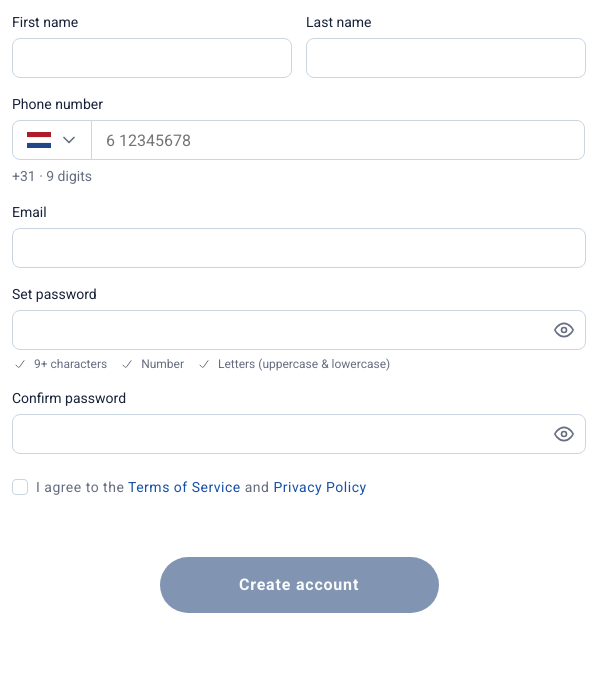
it: SignUpForm › asks for the terms once the unticked box is left
Click the field labelled "Email" at (299, 248), box [12,228,586,268]
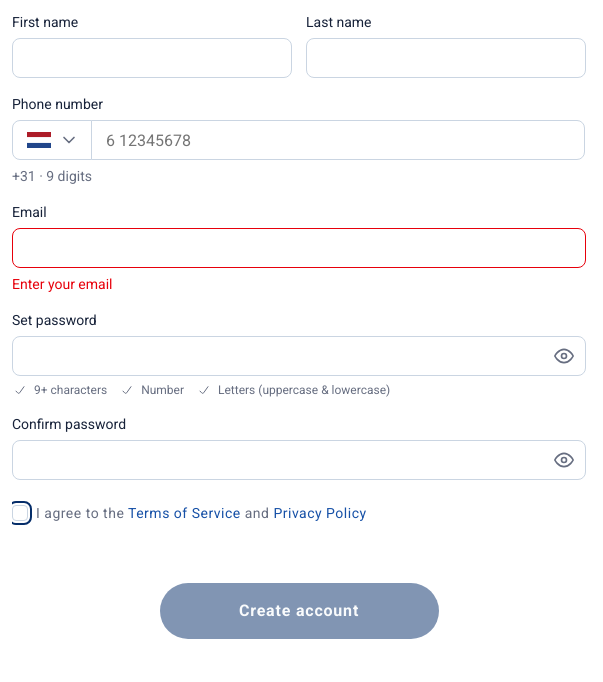
Press Tab
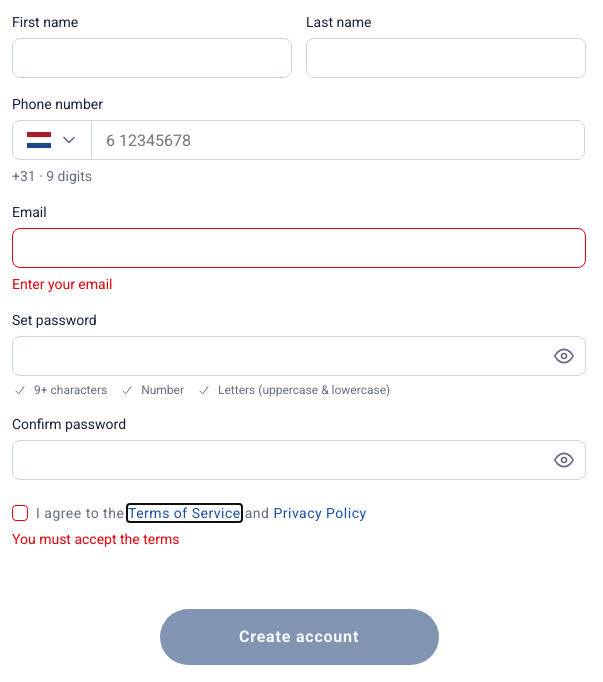
Expected: the text "You must accept the terms" is shown, [12,531,180,547]
